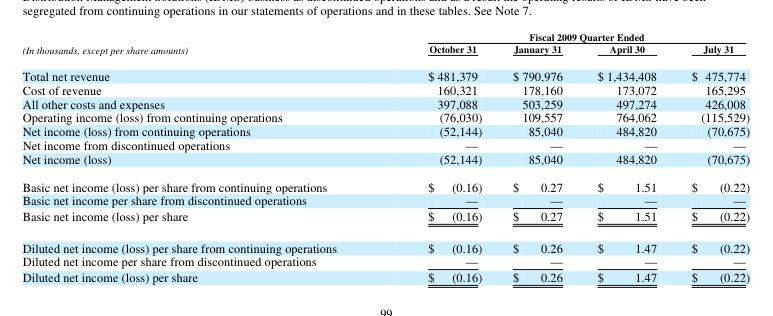table: (21, 29, 749, 284)
table column: (21, 29, 381, 284), (381, 29, 496, 284), (579, 29, 673, 284), (496, 29, 579, 284), (673, 29, 749, 284)
table column header: (21, 29, 749, 61)
table row: (21, 207, 749, 231), (21, 231, 749, 253), (21, 171, 749, 192), (21, 61, 749, 81), (21, 151, 749, 171), (21, 42, 749, 61), (21, 268, 749, 284), (21, 192, 749, 207), (21, 253, 749, 268), (21, 81, 749, 95), (21, 95, 749, 109), (21, 109, 749, 123), (21, 123, 749, 137), (21, 137, 749, 151), (21, 29, 749, 42)
table spanning cell: (21, 29, 381, 61), (381, 29, 749, 42)
